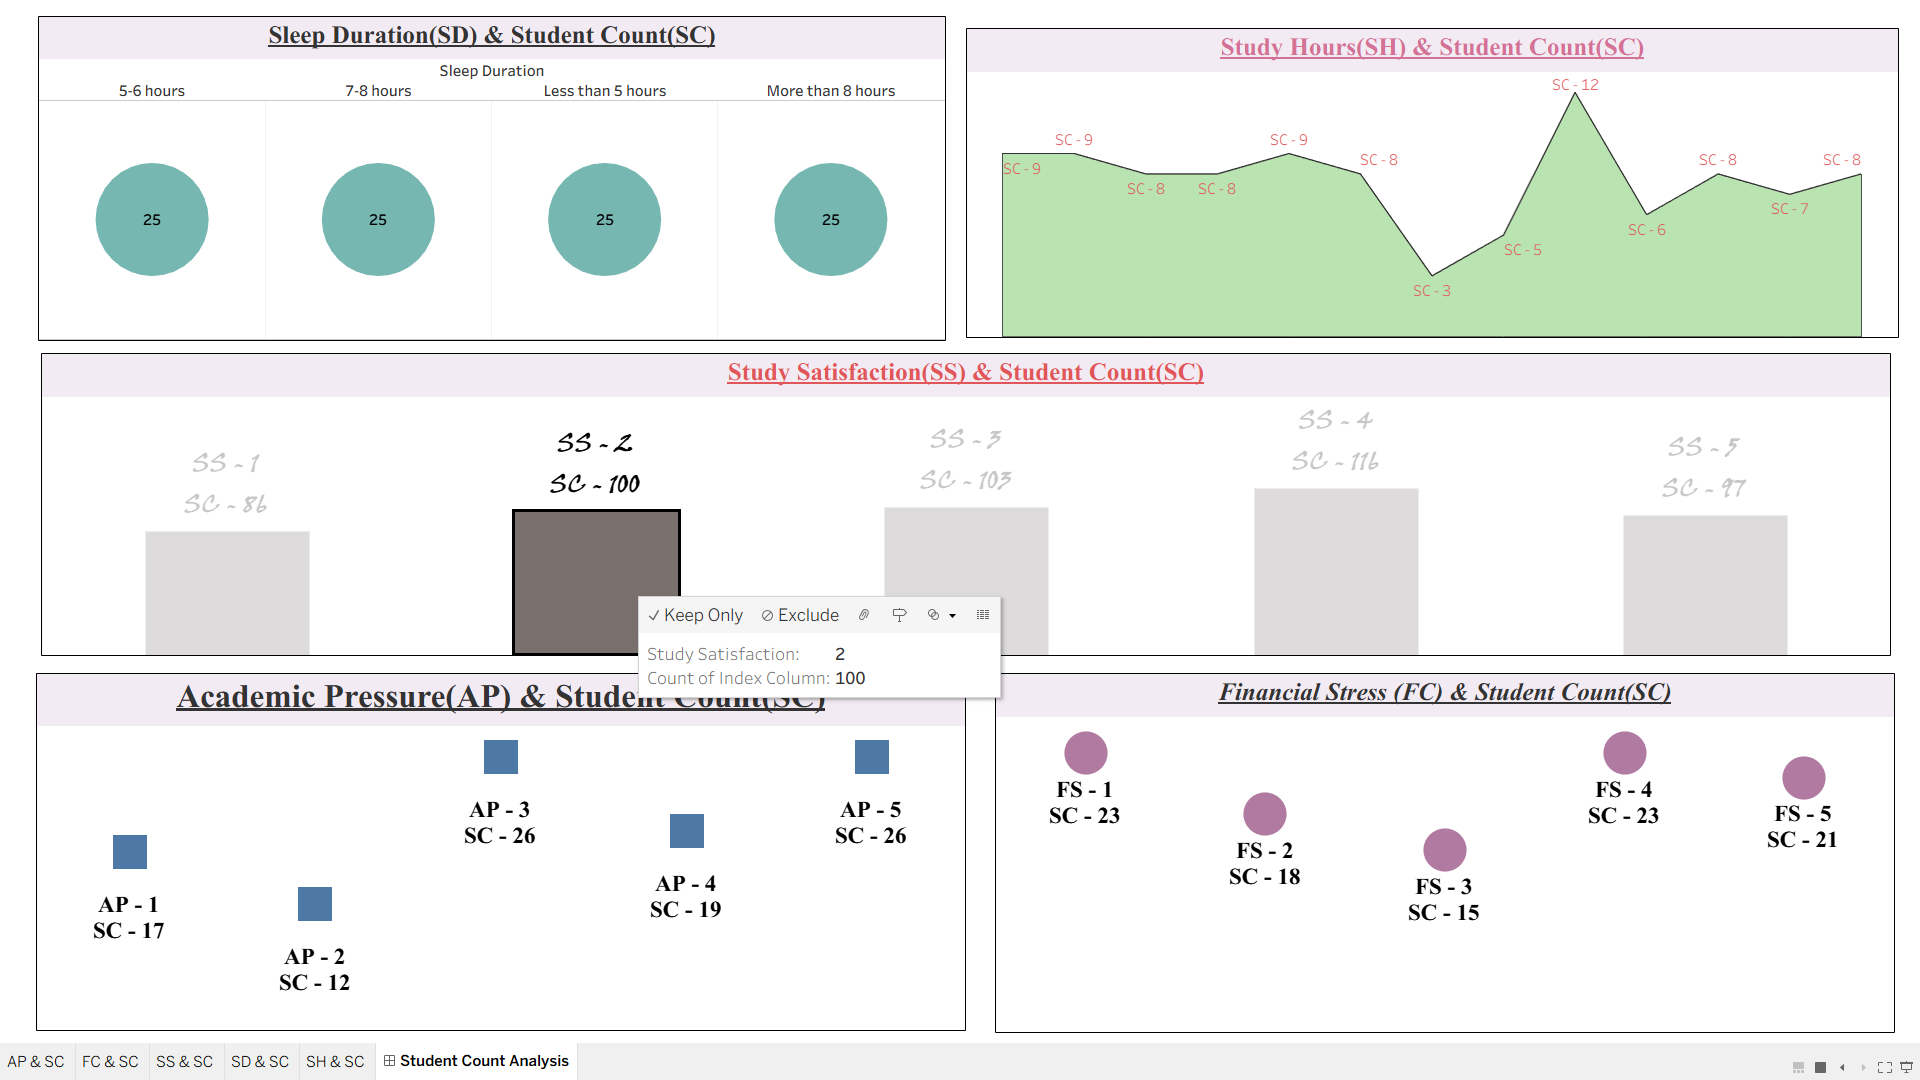

The dashboard page shown, as its layout file describes it:
{"tool":"tableau","page":{"name":"Student Count Analysis","canvas":[1000,1000],"units":"permille","ordinal":0},"visuals":[{"type":"worksheet","title":"SD & SC","mark":"Pie","cols":["Sleep_Duration"],"box":[19.9,15.3,473.1,311.4]},{"type":"worksheet","title":"SH & SC","mark":"Area","rows":["Index_Column"],"cols":["Study_Hours"],"box":[503.3,27,485.8,297.3]},{"type":"worksheet","title":"SS & SC","mark":"Automatic","rows":["Index_Column"],"cols":["Study_Satisfaction"],"box":[21.1,338.4,963.8,290.2]},{"type":"worksheet","title":"AP & SC","mark":"Square","rows":["Index_Column"],"cols":["Academic_Pressure"],"box":[18.7,645.1,484.6,343.1]},{"type":"worksheet","title":"FC & SC","mark":"Circle","rows":["Index_Column"],"cols":["Financial_Stress"],"box":[518.4,645.1,468.9,345.5]}]}

Visuals, with their boxes on the dashboard's canvas, which has no fixed pixel size, in thousandths of its width and height (x1, y1, x2, y2). These are canvas units, not pixel positions in the 1920x1080 screenshot, which may show the page scaled, cropped or inside an application window:
"SD & SC" worksheet (Pie marks): {"left": 20, "top": 15, "right": 493, "bottom": 327}
"SH & SC" worksheet (Area marks): {"left": 503, "top": 27, "right": 989, "bottom": 324}
"SS & SC" worksheet: {"left": 21, "top": 338, "right": 985, "bottom": 629}
"AP & SC" worksheet (Square marks): {"left": 19, "top": 645, "right": 503, "bottom": 988}
"FC & SC" worksheet (Circle marks): {"left": 518, "top": 645, "right": 987, "bottom": 991}
